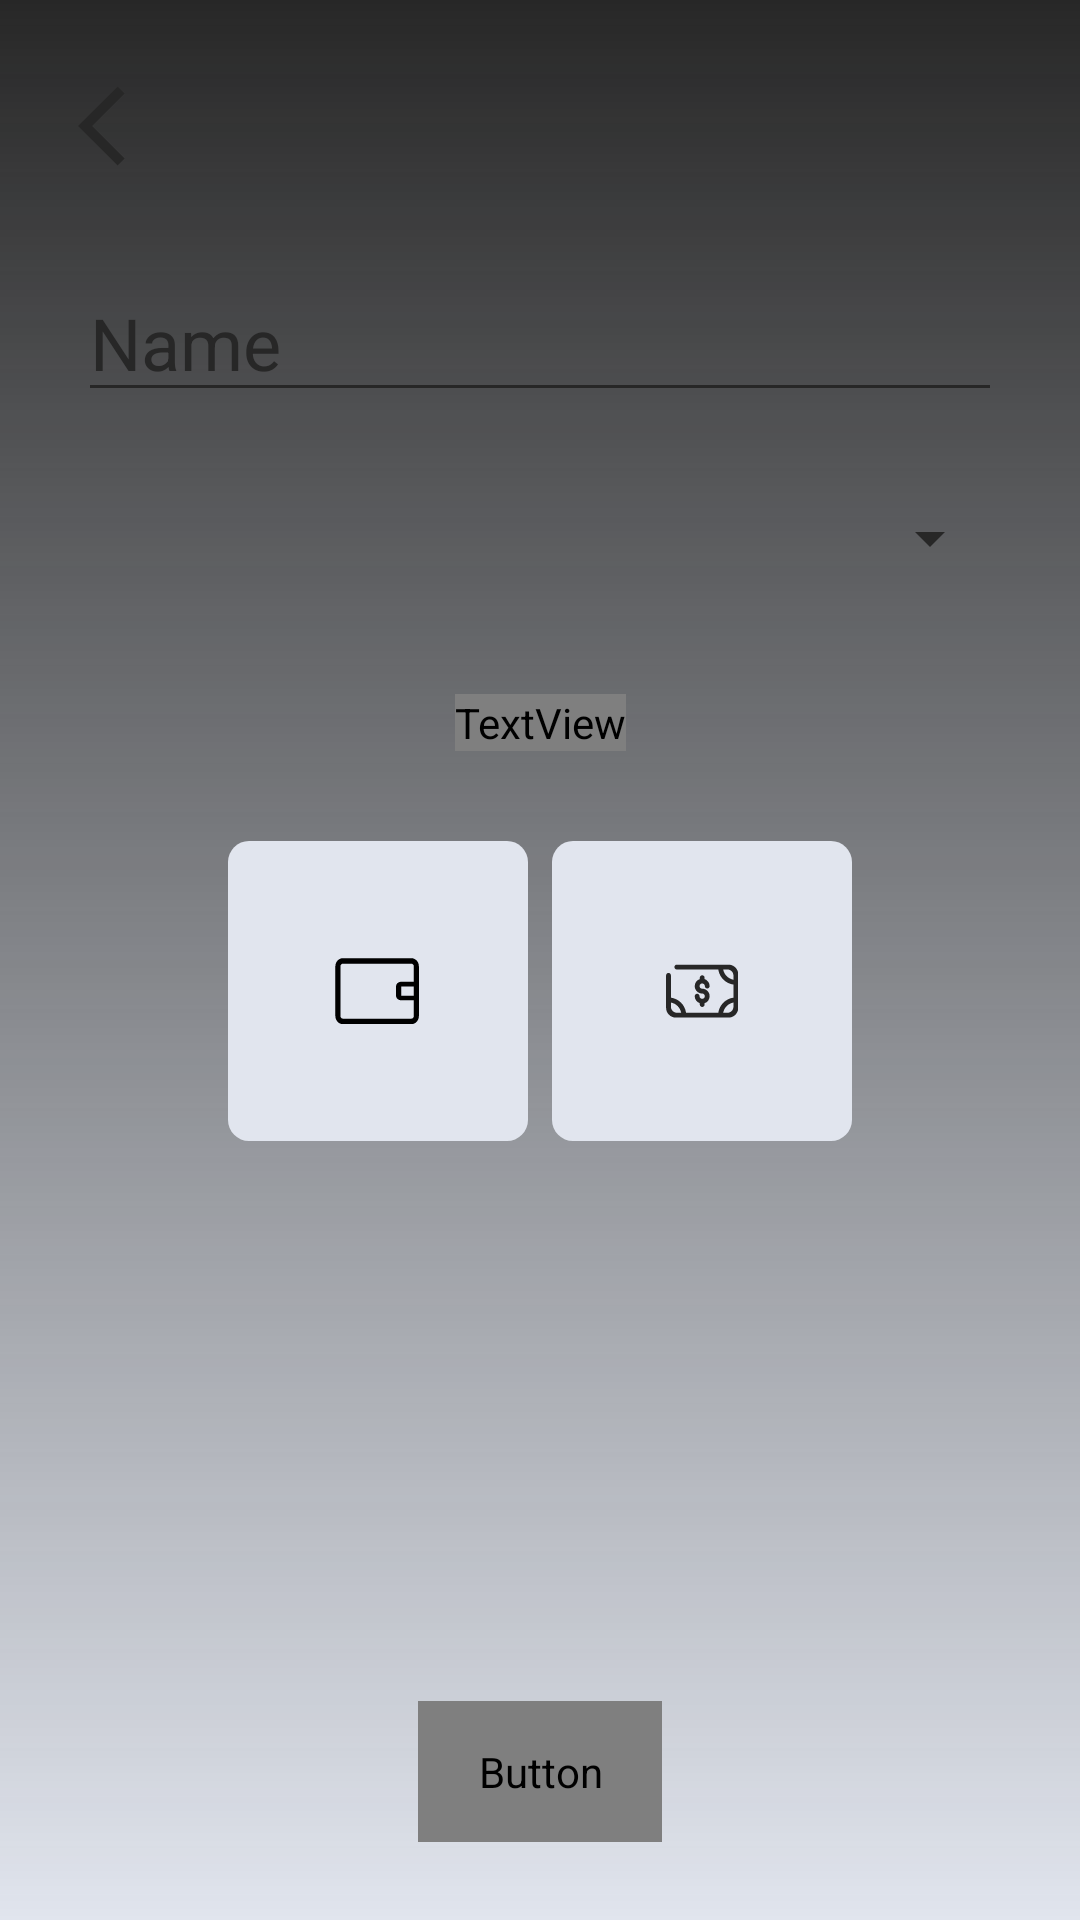

Icons on this 1080×1920 Android screen, each with the point to tap as (x=x, y=y):
dolar cash: (x=702, y=991)
wallet: (x=377, y=991)
